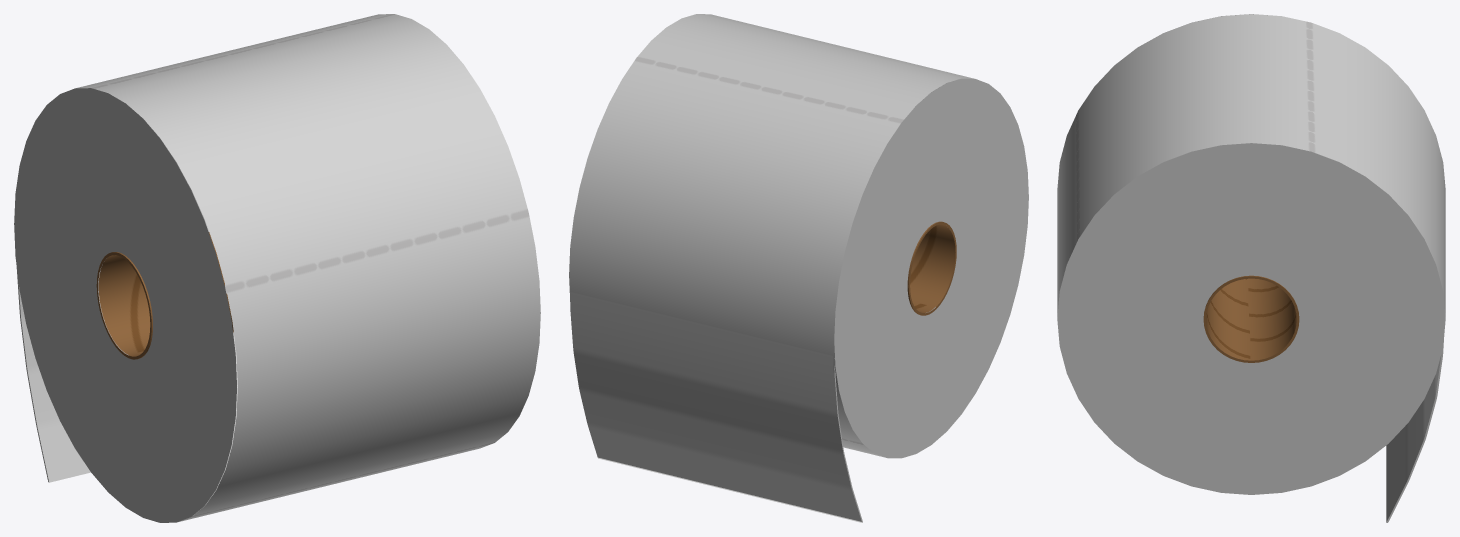
The model's file is Paper.fbx.
3 renders of one model, left to right at view 1: azimuth 30°, elevation 25°; view 2: azimuth 150°, elevation 25°; view 3: azimuth 270°, elevation 25°, orthographic. The views are drawn at different scales.
Visible parts, largest first — view 1: Cylinder001; view 2: Cylinder001; view 3: Cylinder001.
Boxes of the visible parts, x1,y1,x2,y2 form: Cylinder001: (14,14,540,522); Cylinder001: (569,14,1028,522); Cylinder001: (1057,14,1445,522).
Bounding box in the file's own units: 10.15 × 13.81 × 12.8.
1 material, 1 textured.
